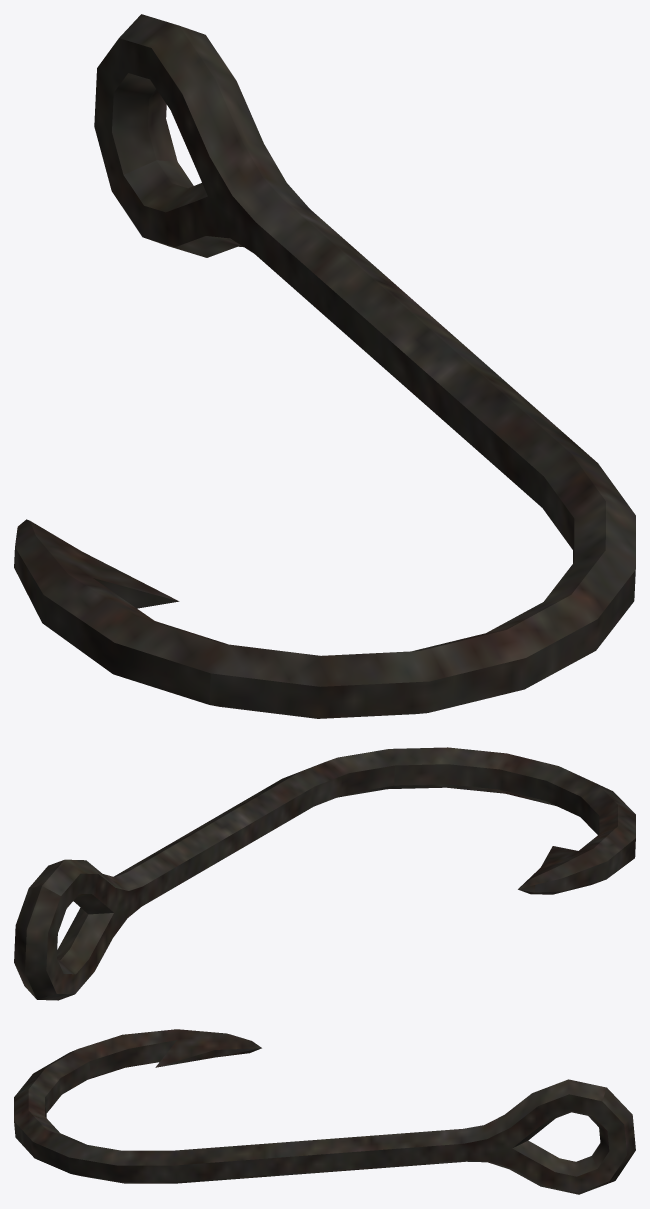
Rendered from fishing_hook_mx_1.obj.
The picture shows the model from 3 angles, top to bottom: view 1: azimuth 30°, elevation 25°; view 2: azimuth 150°, elevation 25°; view 3: azimuth 270°, elevation 25°; orthographic projection. The views are drawn at different scales.
Visible parts, largest first — view 1: fishing_hook_mx_1; view 2: fishing_hook_mx_1; view 3: fishing_hook_mx_1.
Boxes of the visible parts, x1,y1,x2,y2 form: fishing_hook_mx_1: (14, 14, 635, 718); fishing_hook_mx_1: (14, 747, 635, 1000); fishing_hook_mx_1: (14, 1029, 635, 1194).
Bounding box in the file's own units: 0.1757 × 0.0698 × 0.3407.
